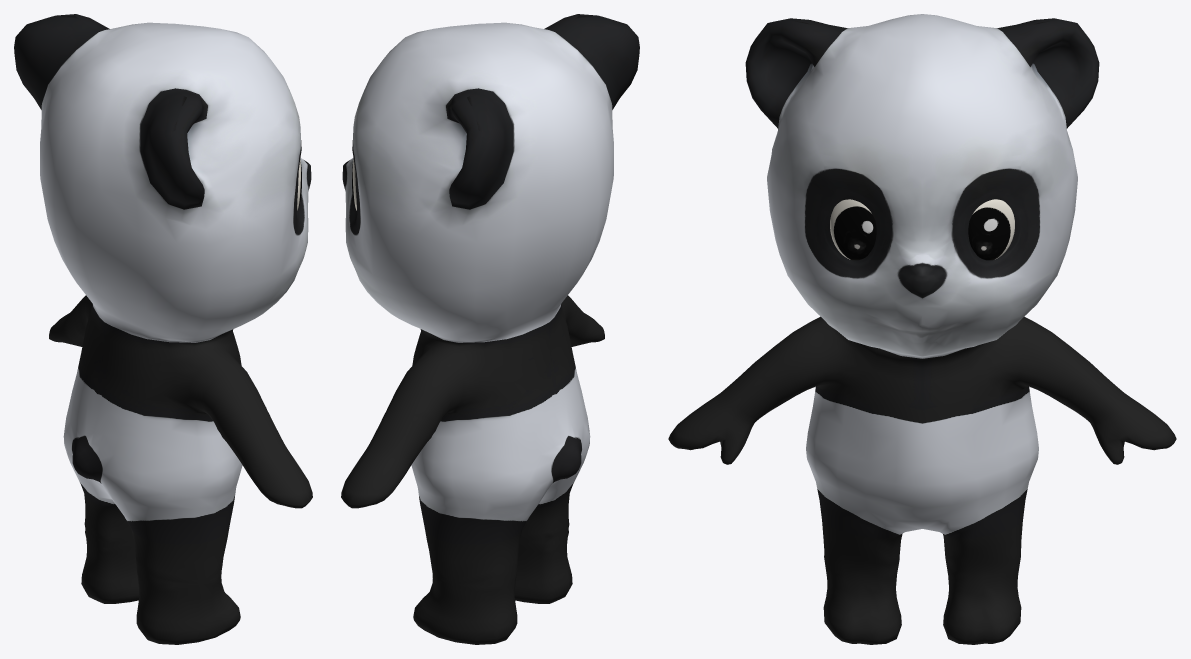
The model's file is pandanew.fbx.
3 views of the same model, side by side, from view 1: azimuth 30°, elevation 25°; view 2: azimuth 150°, elevation 25°; view 3: azimuth 270°, elevation 25° (orthographic). The views are drawn at different scales.
Visible parts, largest first — view 1: Sphere003; view 2: Sphere003; view 3: Sphere003.
Part boxes in pixels (left/top/right/bottom): Sphere003: left=14, top=14, right=312, bottom=644; Sphere003: left=341, top=14, right=639, bottom=644; Sphere003: left=668, top=14, right=1176, bottom=644.
Bounding box in the file's own units: 428 × 910 × 701.
3 materials, 3 textured.
